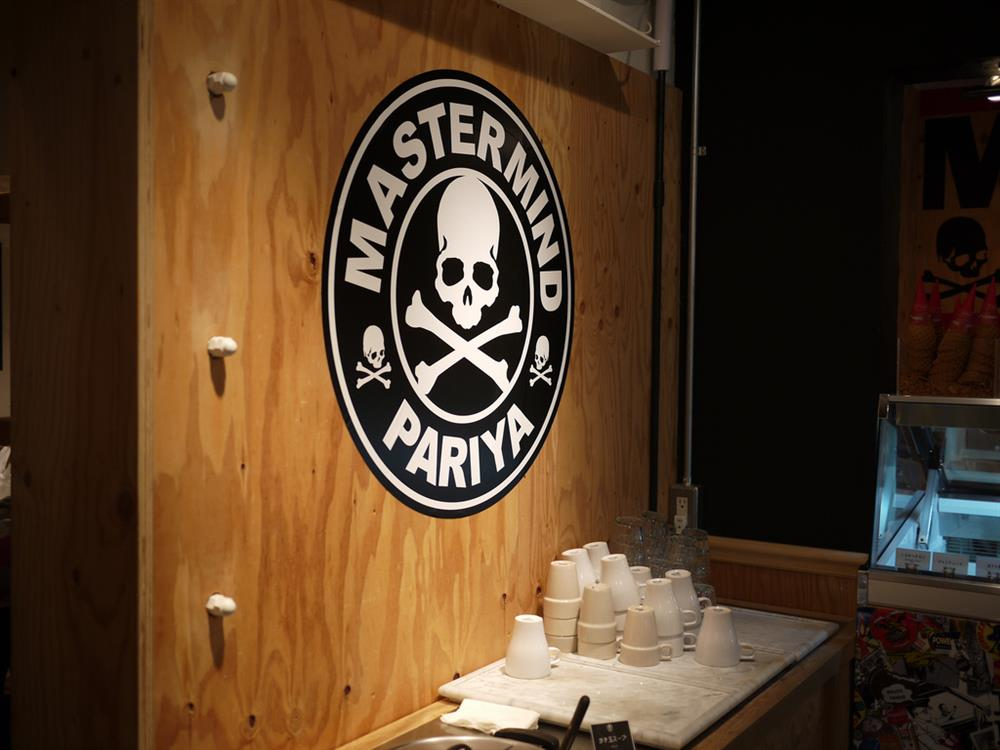mastermind_JAPAN: (322, 80, 572, 520)
